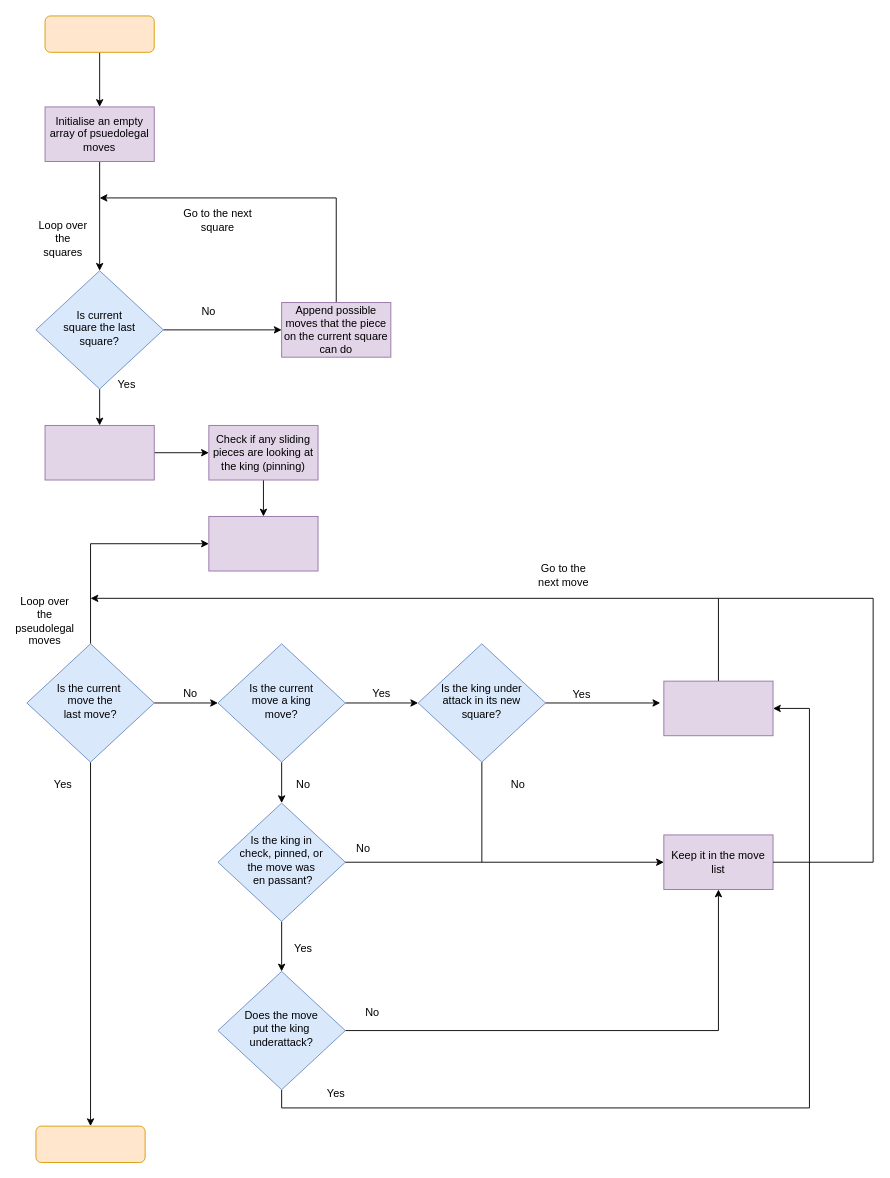
Image size: 890x1178. Some labels were removed from this diagram. The centre of each missing label's shape, as x and y in pixels:
"Calculate if the king is currently under attack (in check)" belongs at [263,543].
"Finish (return the move list)" belongs at [90,1144].
"Loop over the squares to get the current position of the king" belongs at [99,452].
"Remove it from the move list." belongs at [718,708].
"Start" belongs at [99,33].
